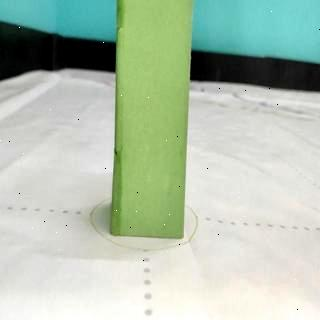greenbox: (108, 0, 195, 239)
